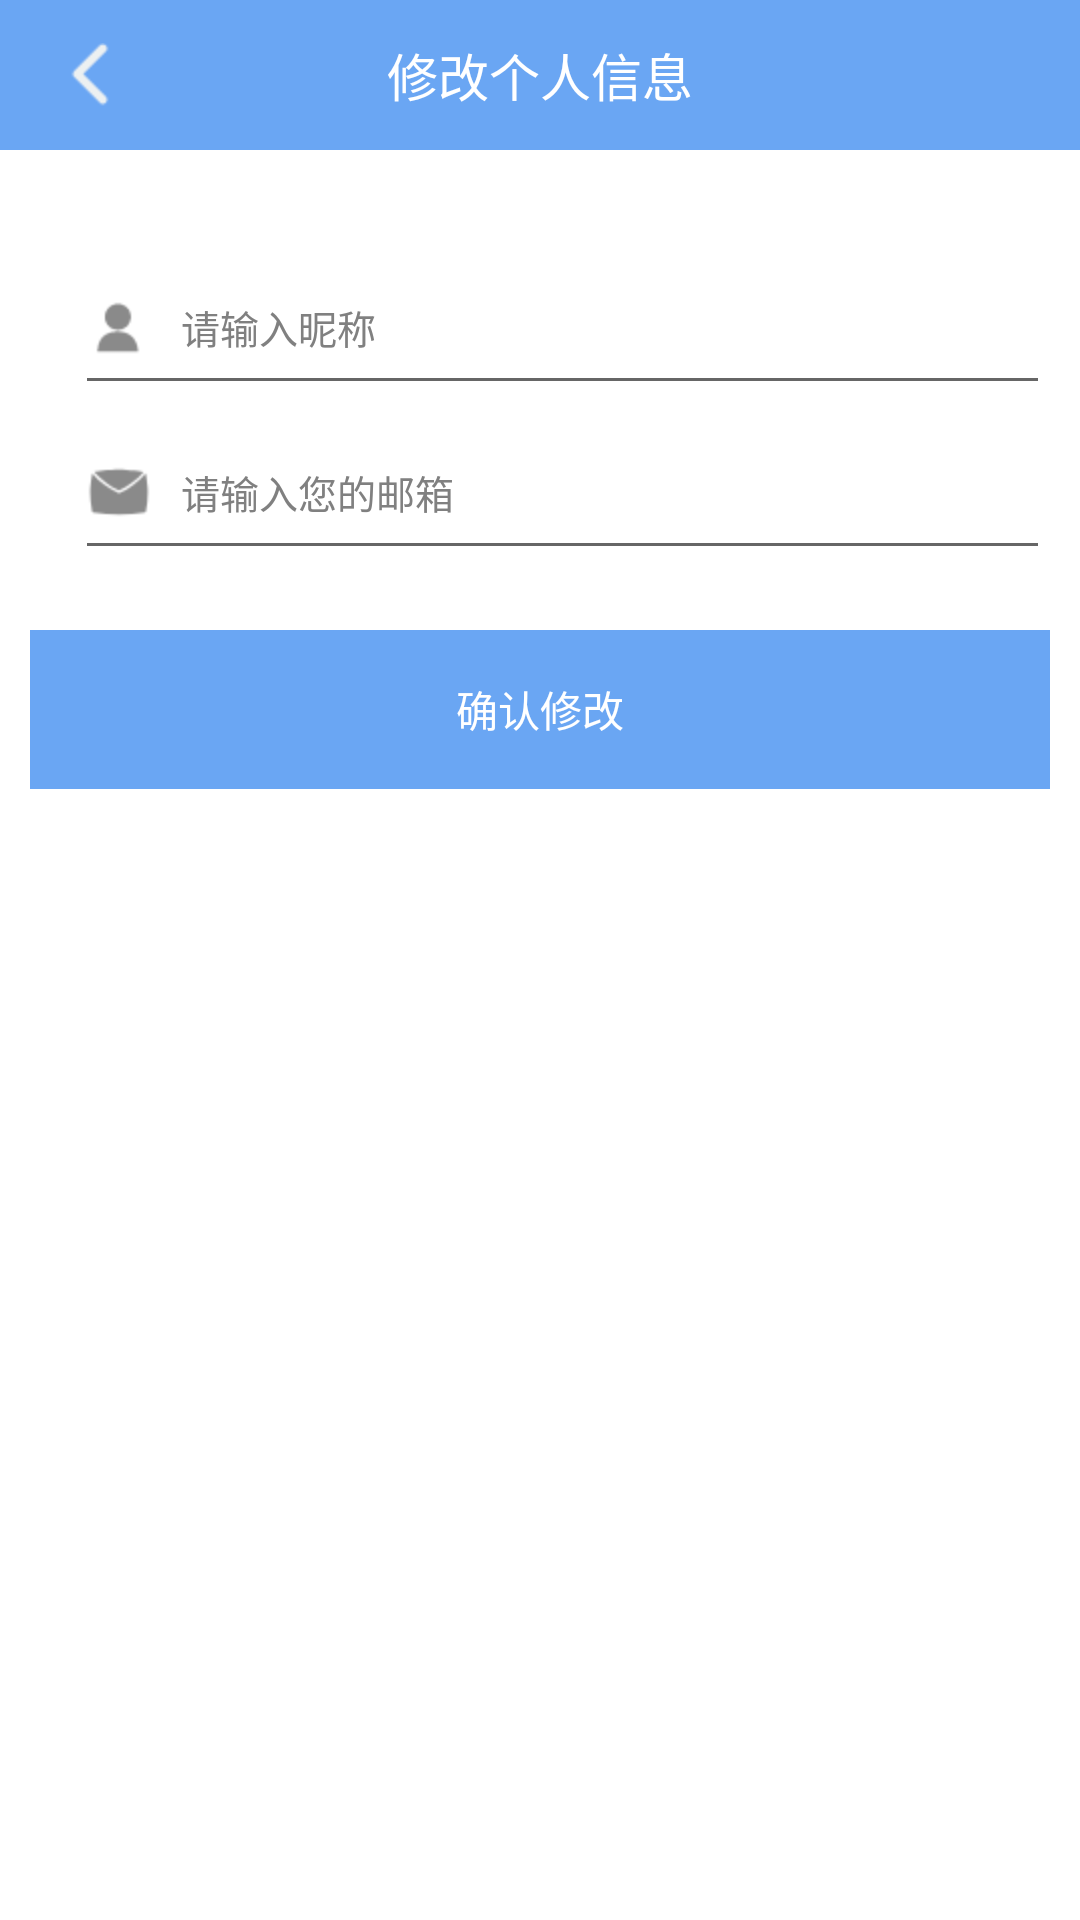

Icon bounding boxes for this 1080w x 1920h phone screenshot, format (x1, y1, x2, y2):
back: (72, 43, 108, 105)
